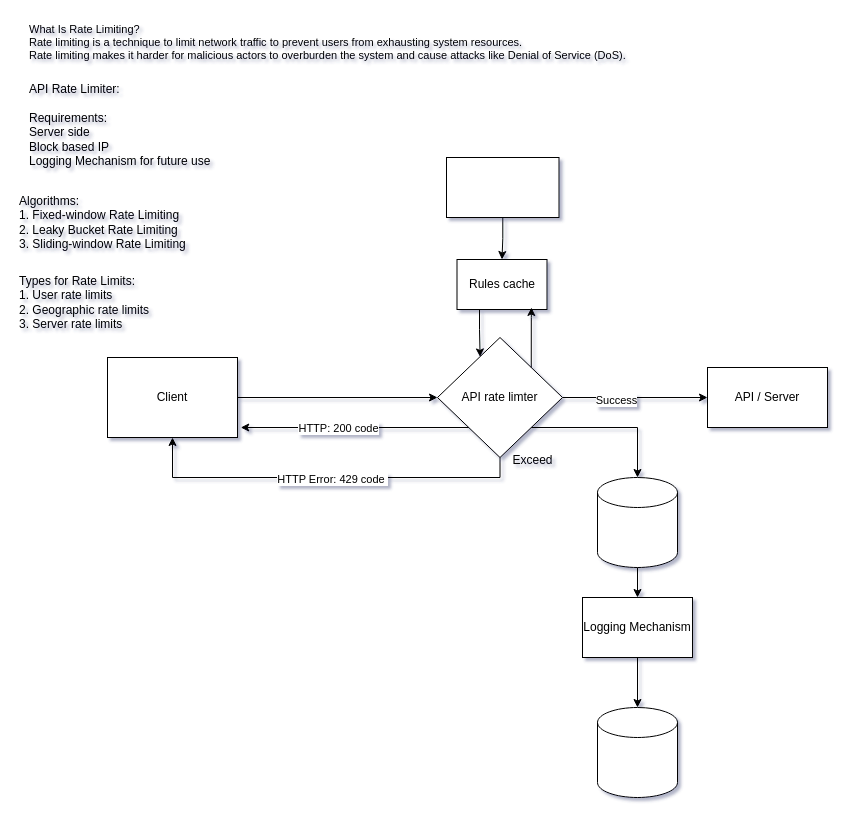
The diagram is 851 pixels wide and 821 high, and some of its shapes have lost their labels. The box of each missing label's shape, as (x1, y1, x2, y2) in pixels:
Cache (High Throughput): (596, 476, 678, 568)
Longterm Storage: (596, 706, 678, 798)
Rules Engine: (446, 156, 559, 218)
